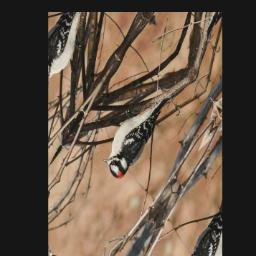Woodpecker: (98, 72, 174, 187)
